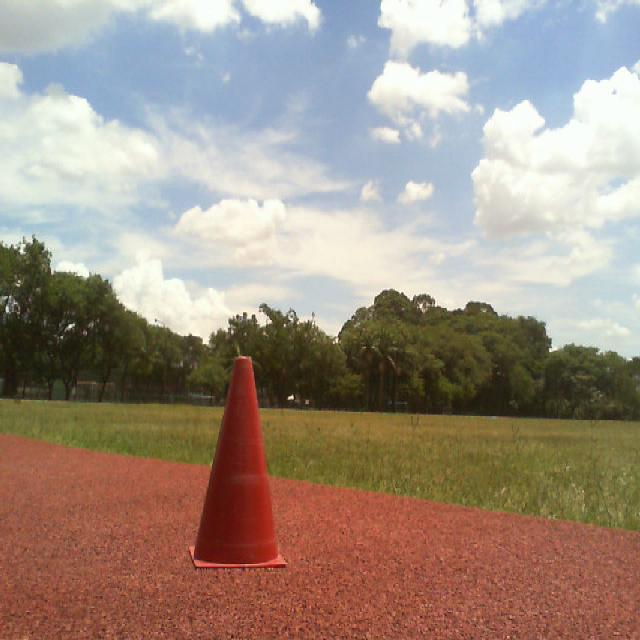cone: (188, 356, 288, 569)
